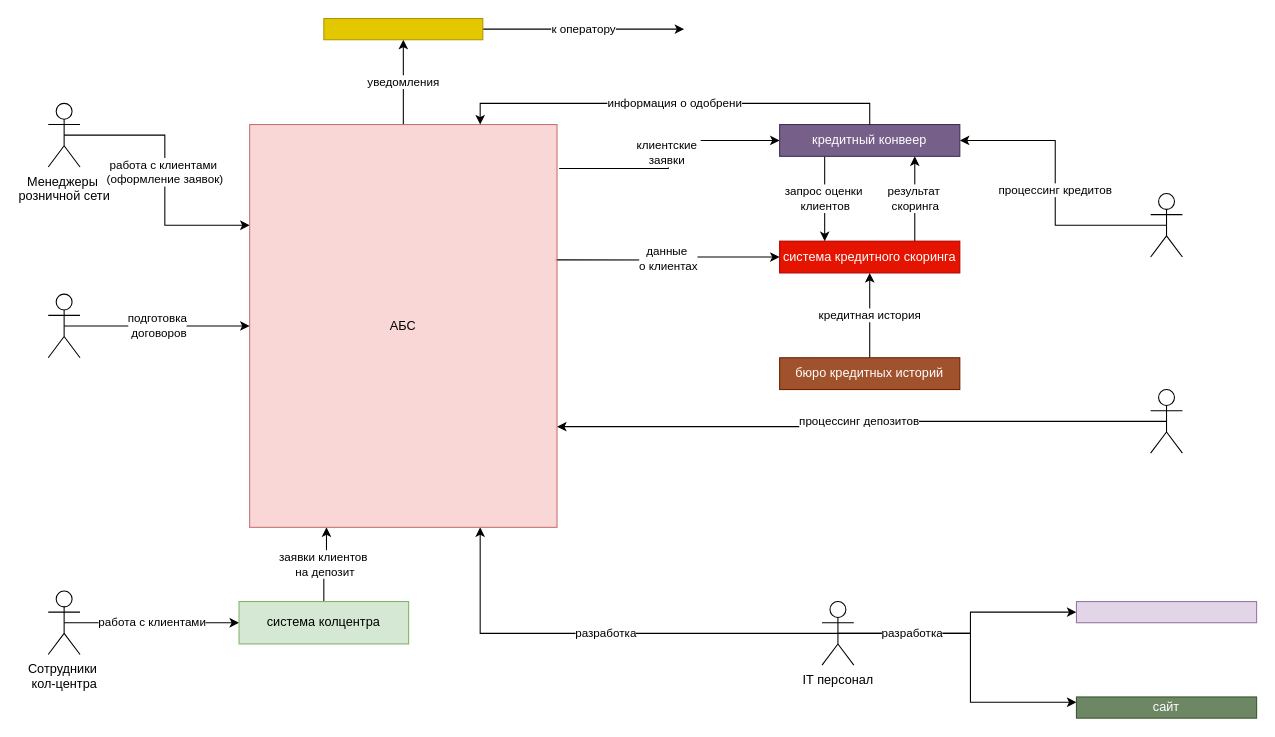
Some shapes in this 1275 by 737 pixel diagram are drawn without their labels. The shapes that lost their labels are listed below. From the top down, each one's box as (x1, y1, x2, y2) in pixels, then its label:
(323, 17, 483, 40): смс шлюз
(1150, 192, 1182, 257): Менеджеры кредитных продуктов
(47, 293, 80, 358): Юристы
(1150, 388, 1182, 453): Менеджеры депозитных продуктов
(1075, 600, 1257, 623): интернет банк
